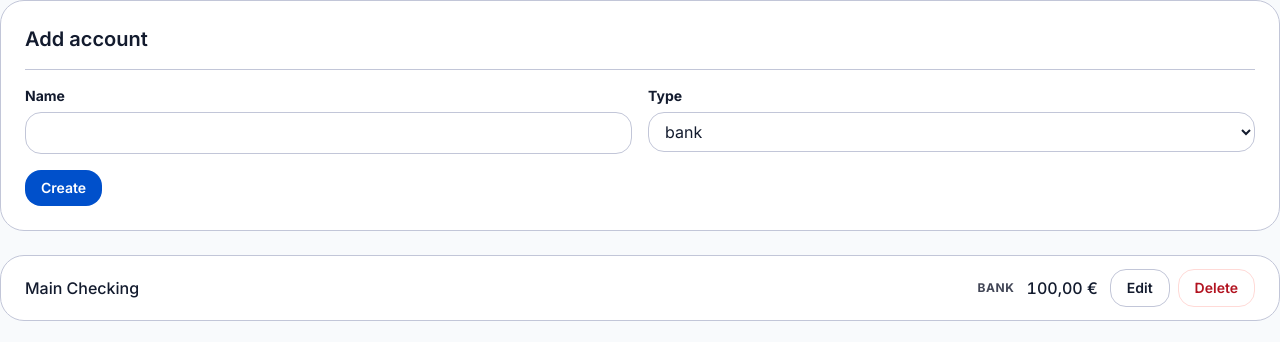
Test: AccountsContainer › deletes an account
This screenshot has width=1280, height=342.
expect the text "Main Checking" is shown: met, box [25,278,139,298]
Step 1. Click the button "Delete" → point(1216, 288), box [1178,269,1255,307]
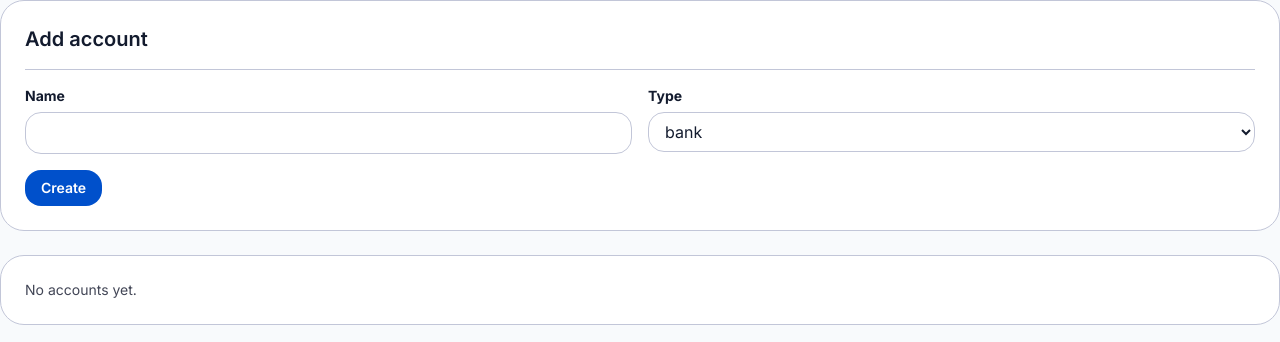
expect the text "No accounts yet." is shown: met, box [25,281,137,298]
